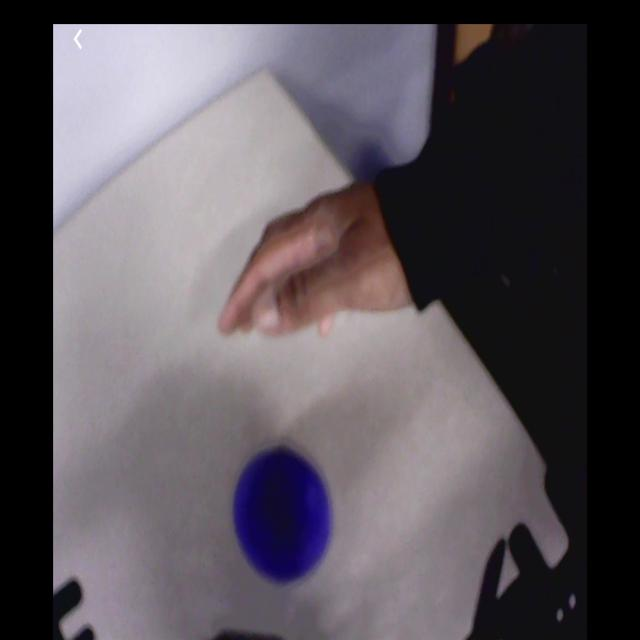ball: (237, 451, 330, 577)
